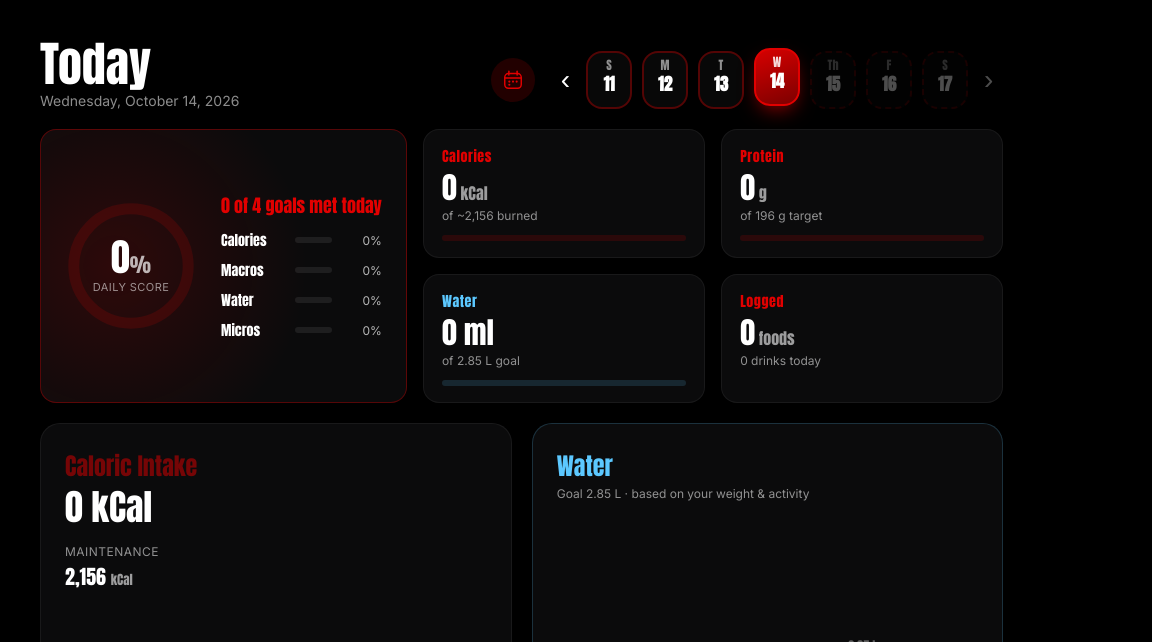
Test: diet page days › moves between weeks and days, never past today
Expected: the heading "Today" is shown, [40,28,151,100]
Expected: the button named "Next week" is disabled, [974,66,1003,94]
Click the button named "Previous week". click: (565, 80)
box: [551,66,580,94]
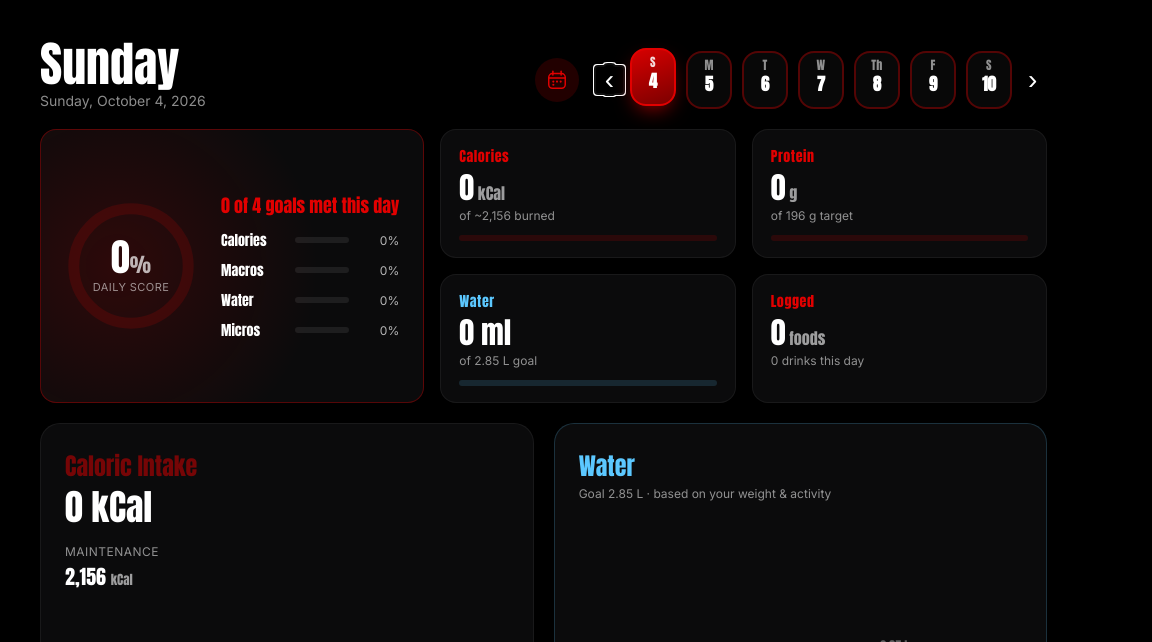
Expected: the heading "Sunday" is shown, [40,28,179,100]
Expected: the text "Sunday, October 4, 2026" is shown, [40,92,206,109]
Click the button named "F9". click: (933, 80)
box: [910,51,956,109]
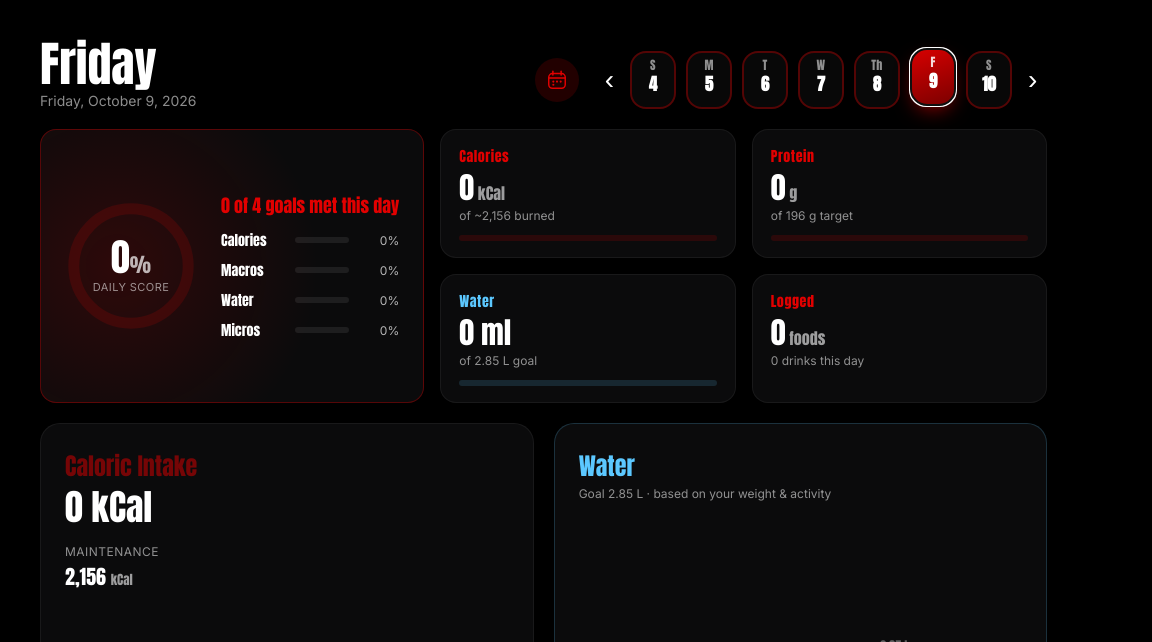
Expected: the heading "Friday" is shown, [40,28,157,100]
Click the button named "Next week". click: (1033, 80)
box: [1018,66,1047,94]
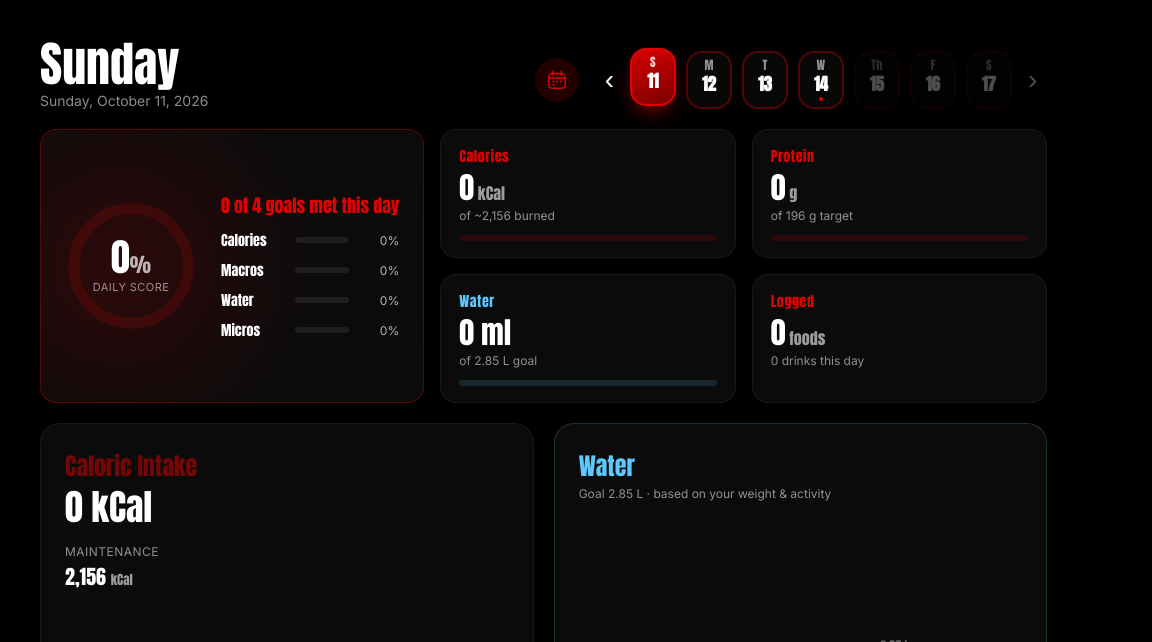
Expected: the text "0 drinks this day" is shown, [771,353,864,368]
Expected: the text "Sunday, October 11, 2026" is shown, [40,92,208,109]
Expected: the button named "Next week" is disabled, [1018,66,1047,94]
